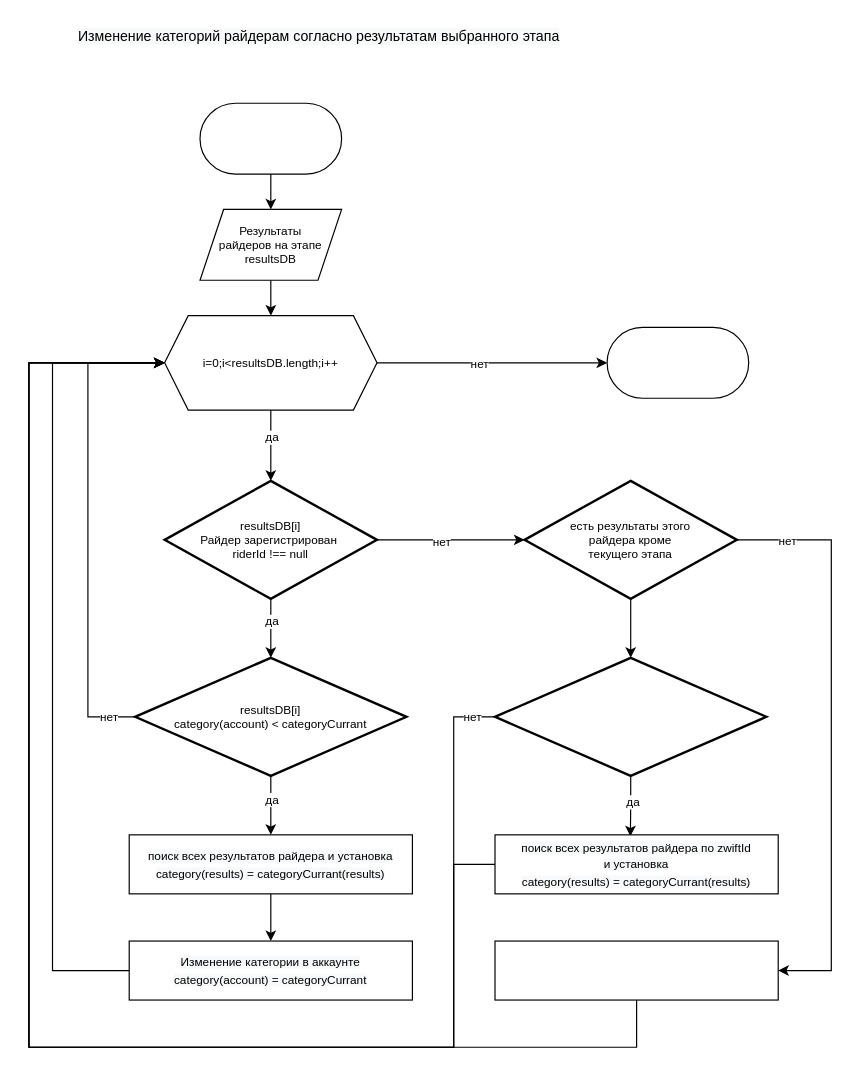
This 861x1077 diagram has some shape labels left out. Here are the shapes that lost their labels. From the top down, the centre of each, then its label:
At point 270,138: "Начало".
At point 677,362: "Конец".
At point 630,716: "resultsDB[i] category(result another) < categoryCurrant".
At point 636,970: "установка category(results) = categoryCurrant(results)".
